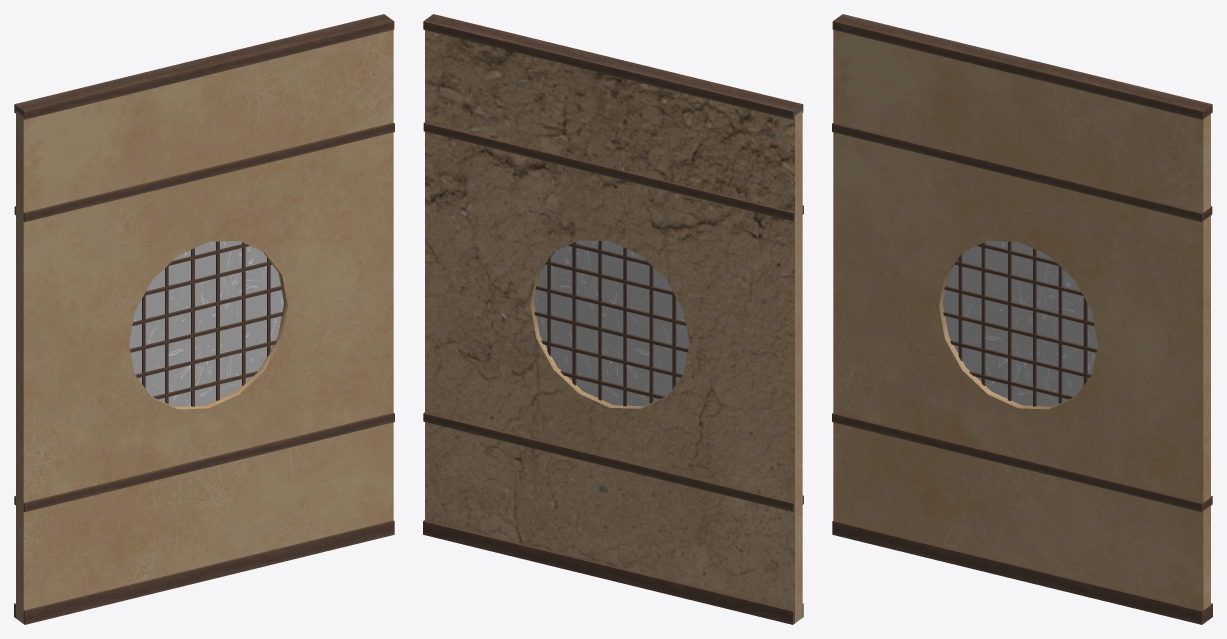
File: intwall02_1t_w2.fbx
3 renders of one model, left to right at view 1: azimuth 30°, elevation 25°; view 2: azimuth 150°, elevation 25°; view 3: azimuth 330°, elevation 25°, orthographic.
Parts seen in each view (by area): view 1: intwall02_1t_w2; view 2: intwall02_1t_w2; view 3: intwall02_1t_w2.
Boxes of the visible parts, <box> form: intwall02_1t_w2: <box>14,14,394,624</box>; intwall02_1t_w2: <box>423,14,803,624</box>; intwall02_1t_w2: <box>832,14,1212,624</box>.
Bounding box in the file's own units: 220 × 292 × 11.34.
